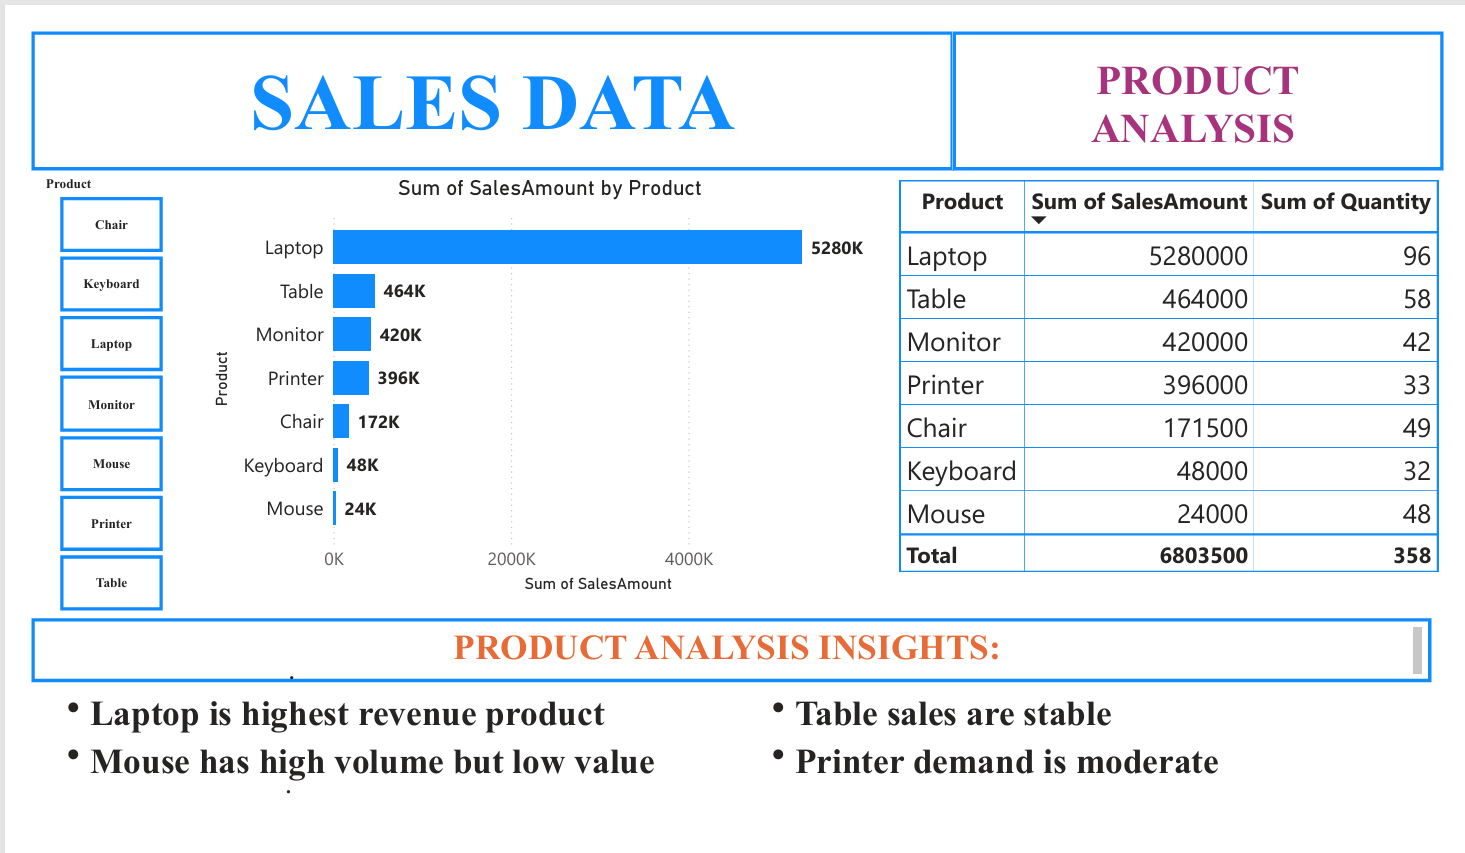

The page's visual inventory and layout, read from the dashboard file:
{"tool":"powerbi","page":{"name":"Product Analysis","canvas":[1280,720],"ordinal":2},"visuals":[{"type":"barChart","fields":{"Category":["Sales_Data.Product"],"Y":["Sum(Sales_Data.SalesAmount)"]},"box":[159.2,130.4,621.6,382.8],"z":0},{"type":"tableEx","fields":{"Values":["Sales_Data.Product","Sum(Sales_Data.SalesAmount)","Sum(Sales_Data.Quantity)"]},"box":[781.4,130,498.6,382.9],"z":2000},{"type":"textbox","box":[0,573.6,639.5,146.8],"z":3000},{"type":"textbox","box":[639.5,573.6,640.8,146.8],"z":4000},{"type":"textbox","box":[0,532.4,1269.3,57.6],"z":5000},{"type":"slicer","fields":{"Values":["Sales_Data.Product"]},"box":[0,126.2,142.7,406.2],"z":5001},{"type":"textbox","box":[0,0,835.7,126.2],"z":5002},{"type":"textbox","box":[835.4,0,444.6,126.2],"z":5003}]}

Visuals, with their boxes on the page's 1280x720 design canvas (x1, y1, x2, y2). These are canvas units, not pixel positions in the 1465x853 screenshot, which may show the page scaled, cropped or inside an application window:
barChart - Sales_Data.Product x Sum(Sales_Data.SalesAmount): x1=159 y1=130 x2=781 y2=513
tableEx - Sales_Data.Product x Sum(Sales_Data.SalesAmount): x1=781 y1=130 x2=1280 y2=513
textbox: x1=0 y1=574 x2=640 y2=720
textbox: x1=640 y1=574 x2=1280 y2=720
textbox: x1=0 y1=532 x2=1269 y2=590
slicer - Sales_Data.Product: x1=0 y1=126 x2=143 y2=532
textbox: x1=0 y1=0 x2=836 y2=126
textbox: x1=835 y1=0 x2=1280 y2=126
